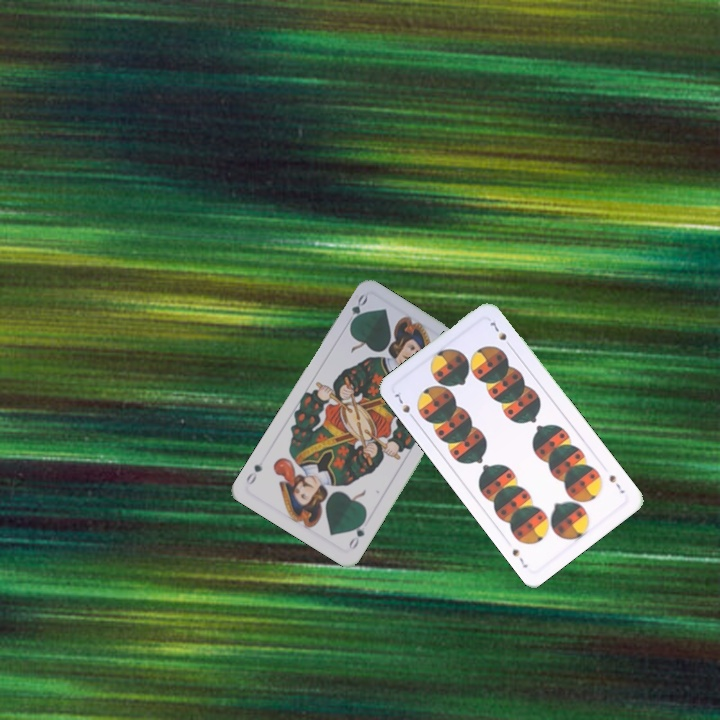GO: (342, 291, 370, 330), (345, 514, 368, 552)
S7: (389, 387, 418, 423), (605, 471, 627, 496)
